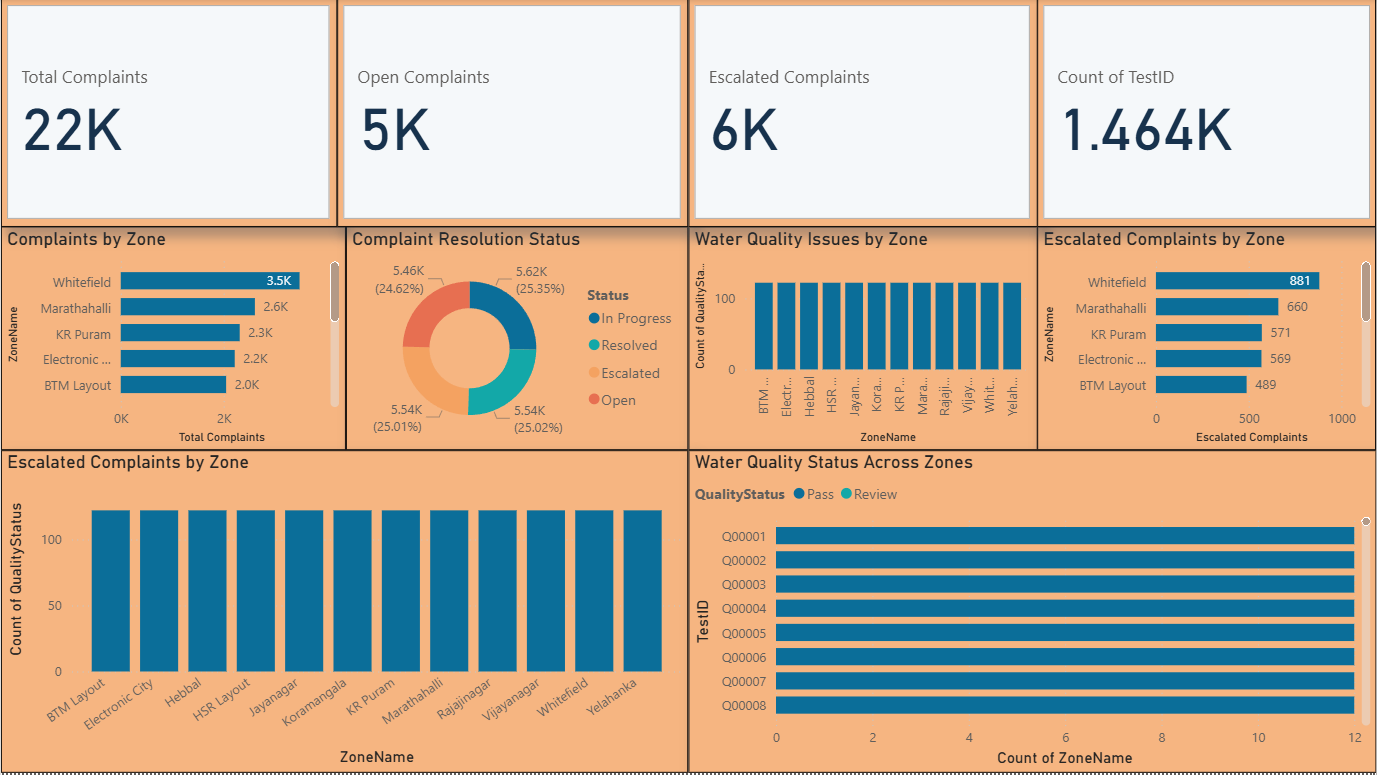

What the dashboard file says about the page in this screenshot:
{"tool":"powerbi","page":{"name":"04 - Complaints & Quality","canvas":[1280,720],"ordinal":3},"visuals":[{"type":"clusteredBarChart","title":"Complaints by Zone","fields":{"Category":["DimZone.ZoneName"],"Y":["Measures (2).Total Complaints"]},"box":[0,211.6,320.9,208.1],"z":0},{"type":"donutChart","title":"Complaint Resolution Status","fields":{"Category":["FactComplaints.Status"],"Y":["CountNonNull(FactComplaints.ComplaintID)"]},"box":[320.9,211.6,318.6,208.1],"z":1000},{"type":"clusteredColumnChart","title":"Water Quality Issues by Zone","fields":{"Category":["DimZone.ZoneName"],"Y":["CountNonNull(FactWaterQuality.QualityStatus)"]},"box":[639.5,211.6,324.4,208.1],"z":2000},{"type":"clusteredBarChart","title":"Escalated Complaints by Zone","fields":{"Category":["DimZone.ZoneName"],"Y":["Measures (2).Escalated Complaints"]},"box":[964,211.6,316.3,208.1],"z":3000},{"type":"clusteredColumnChart","title":"Escalated Complaints by Zone","fields":{"Category":["DimZone.ZoneName"],"Y":["CountNonNull(FactWaterQuality.QualityStatus)"]},"box":[0,419.8,639.5,300],"z":4000},{"type":"cardVisual","fields":{"Data":["Measures (2).Total Complaints"]},"box":[0,0,312.8,211.6],"z":5000},{"type":"cardVisual","fields":{"Data":["Measures (2).Open Complaints"]},"box":[312.8,0,326.7,211.6],"z":6000},{"type":"cardVisual","fields":{"Data":["Measures (2).Escalated Complaints"]},"box":[639.5,0,324.4,211.6],"z":7000},{"type":"cardVisual","fields":{"Data":["Count(FactWaterQuality.TestID)"]},"box":[964,0,316.3,211.6],"z":8000},{"type":"barChart","title":"Water Quality Status Across Zones","fields":{"Y":["CountNonNull(DimZone.ZoneName)"],"Category":["FactWaterQuality.TestID"],"Series":["FactWaterQuality.QualityStatus"]},"box":[639.5,419.8,640.7,300],"z":8001}]}

Visuals, with their boxes in screenshot pixels (x1, y1, x2, y2), scaled from the page's 1280x720 canvas onto the 1377x775 screenshot:
"Complaints by Zone" clusteredBarChart: [x1=0, y1=228, x2=345, y2=452]
"Complaint Resolution Status" donutChart: [x1=345, y1=228, x2=688, y2=452]
"Water Quality Issues by Zone" clusteredColumnChart: [x1=688, y1=228, x2=1037, y2=452]
"Escalated Complaints by Zone" clusteredBarChart: [x1=1037, y1=228, x2=1376, y2=452]
"Escalated Complaints by Zone" clusteredColumnChart: [x1=0, y1=452, x2=688, y2=774]
cardVisual - Measures (2).Total Complaints: [x1=0, y1=0, x2=337, y2=228]
cardVisual - Measures (2).Open Complaints: [x1=337, y1=0, x2=688, y2=228]
cardVisual - Measures (2).Escalated Complaints: [x1=688, y1=0, x2=1037, y2=228]
cardVisual - Count(FactWaterQuality.TestID): [x1=1037, y1=0, x2=1376, y2=228]
"Water Quality Status Across Zones" barChart: [x1=688, y1=452, x2=1376, y2=774]
